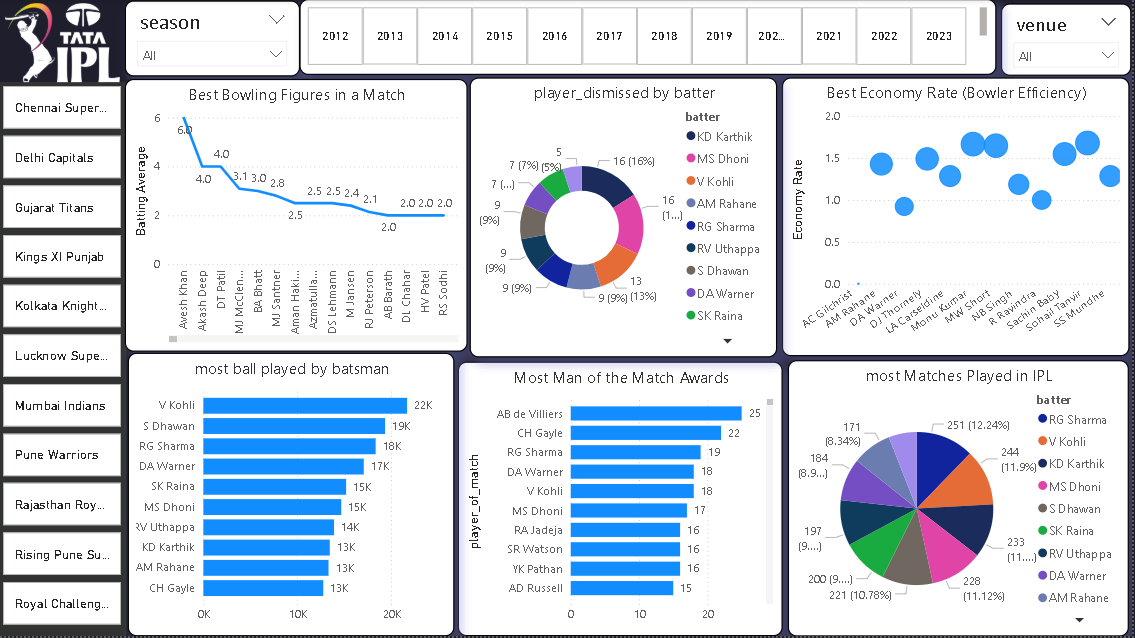

The dashboard page shown, as its layout file describes it:
{"tool":"powerbi","page":{"name":"Player Performance","canvas":[1280,720],"ordinal":2},"visuals":[{"type":"slicer","fields":{"Values":["matches.season"]},"box":[142.7,2,197.8,85.6],"z":0},{"type":"advancedSlicerVisual","fields":{"Values":["matches.team2"]},"box":[0,93.2,143.7,627.2],"z":1000},{"type":"slicer","fields":{"Values":["matches.venue"]},"box":[1132.1,5.8,147.6,81.6],"z":2000},{"type":"clusteredBarChart","title":"Most Man of the Match Awards","fields":{"Category":["matches.player_of_match"],"Y":["CountNonNull(matches.match_id)"]},"box":[517.9,409.9,367,309.9],"z":3000},{"type":"advancedSlicerVisual","fields":{"Values":["matches.season"]},"box":[338.5,0,787.1,85.6],"z":4000},{"type":"image","box":[0,0,143.7,99],"z":5000},{"type":"lineChart","title":"Best Bowling Figures in a Match","fields":{"Category":["deliveries.batter"],"Y":["deliveries.Batting Average"]},"box":[142.7,89.7,387.4,307.9],"z":6000},{"type":"clusteredBarChart","title":"most ball played by batsman","fields":{"Category":["deliveries.batter"],"Y":["Sum(deliveries.ball)"]},"box":[144.8,399.7,369.1,320.1],"z":7000},{"type":"scatterChart","title":"Best Economy Rate (Bowler Efficiency)","fields":{"Y":["deliveries.Economy Rate"],"X":["deliveries.bowler"],"Size":["deliveries.Economy Rate"]},"box":[883.6,89.3,392.3,314.6],"z":8000},{"type":"donutChart","title":"player_dismissed by batter","fields":{"Category":["deliveries.batter"],"Y":["Count(deliveries.player_dismissed)"]},"box":[532.1,89.3,347.6,316.5],"z":9000},{"type":"pieChart","title":"most Matches Played in IPL","fields":{"Category":["deliveries.batter"],"Y":["Count(deliveries.match_id)"]},"box":[891.1,407.8,385.4,312],"z":10000}]}

Visuals, with their boxes in screenshot pixels (x1, y1, x2, y2), scaled from the page's 1280x720 canvas onto the 1135x638 screenshot:
slicer - matches.season: x1=127, y1=2, x2=302, y2=78
advancedSlicerVisual - matches.team2: x1=0, y1=83, x2=127, y2=637
slicer - matches.venue: x1=1004, y1=5, x2=1134, y2=77
"Most Man of the Match Awards" clusteredBarChart: x1=459, y1=363, x2=785, y2=637
advancedSlicerVisual - matches.season: x1=300, y1=0, x2=998, y2=76
image: x1=0, y1=0, x2=127, y2=88
"Best Bowling Figures in a Match" lineChart: x1=127, y1=79, x2=470, y2=352
"most ball played by batsman" clusteredBarChart: x1=128, y1=354, x2=456, y2=637
"Best Economy Rate (Bowler Efficiency)" scatterChart: x1=784, y1=79, x2=1131, y2=358
"player_dismissed by batter" donutChart: x1=472, y1=79, x2=780, y2=360
"most Matches Played in IPL" pieChart: x1=790, y1=361, x2=1132, y2=637
